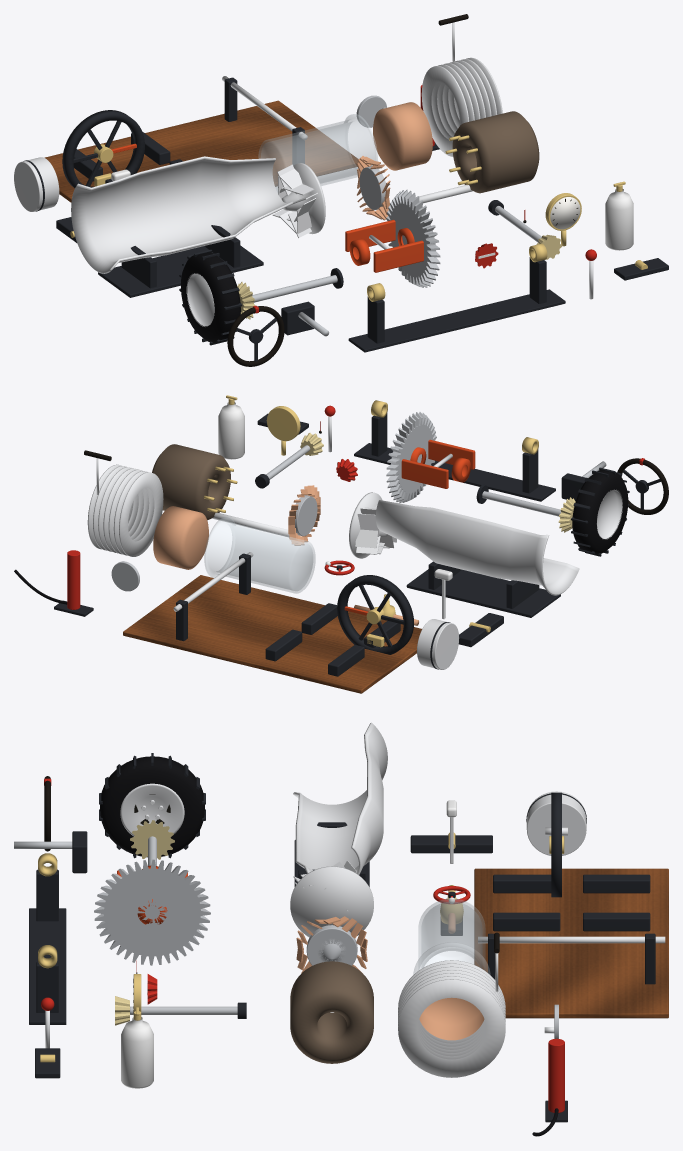
Rendered from eng-parts.glb.
3 views of the same model, one above another, from view 1: azimuth 30°, elevation 25°; view 2: azimuth 150°, elevation 25°; view 3: azimuth 270°, elevation 25° (orthographic). The views are drawn at different scales.
Parts seen in each view (by area): view 1: JetCasing, StirFrame, Combustor, AxleStand, DiffCage, StirCyl, StirFins, Wheel, StirHotCap, Flywheel, Impeller, StirPiston (+9 smaller); view 2: StirFrame, JetCasing, StirFins, StirCyl, DiffCage, Combustor, Wheel, AxleStand, Flywheel, StirHotCap, Impeller, StirPiston (+11 smaller); view 3: StirFrame, DiffCage, StirFins, Wheel, JetCasing, Combustor, AxleStand, Impeller, StirCyl, TurbineWheel, StirPiston, GasBottle (+9 smaller).
Part boxes in pixels (<box>): JetCasing: <box>71,156,292,297</box>; StirFrame: <box>44,76,358,202</box>; Combustor: <box>445,111,539,193</box>; AxleStand: <box>348,243,565,352</box>; DiffCage: <box>345,189,440,287</box>; StirCyl: <box>258,114,377,193</box>; StirFins: <box>421,57,502,156</box>; Wheel: <box>179,249,242,345</box>; StirHotCap: <box>373,102,432,170</box>; Flywheel: <box>62,110,144,188</box>; Impeller: <box>272,163,325,237</box>; StirPiston: <box>14,157,59,211</box>; StirFrame: <box>123,552,421,693</box>; JetCasing: <box>375,500,579,617</box>; StirFins: <box>87,464,163,556</box>; StirCyl: <box>204,517,315,593</box>; DiffCage: <box>386,412,475,503</box>; Combustor: <box>152,444,237,520</box>; Wheel: <box>571,467,629,556</box>; AxleStand: <box>354,400,555,501</box>; Flywheel: <box>337,575,413,654</box>; StirHotCap: <box>153,506,208,569</box>; Impeller: <box>349,492,398,558</box>; StirPiston: <box>417,619,459,669</box>; StirFrame: <box>474,868,668,1018</box>; DiffCage: <box>94,859,210,965</box>; StirFins: <box>398,960,505,1077</box>; Wheel: <box>99,753,205,858</box>; JetCasing: <box>293,722,387,886</box>; Combustor: <box>290,961,373,1063</box>; AxleStand: <box>29,853,66,1024</box>; Impeller: <box>290,860,373,937</box>; StirCyl: <box>413,899,490,974</box>; TurbineWheel: <box>296,916,367,973</box>; StirPiston: <box>526,791,586,855</box>; GasBottle: <box>121,1007,153,1088</box>.
Bounding box in the file's own units: 9.01 × 2.55 × 8.75.
Materials: 20 (1 with a texture image).
